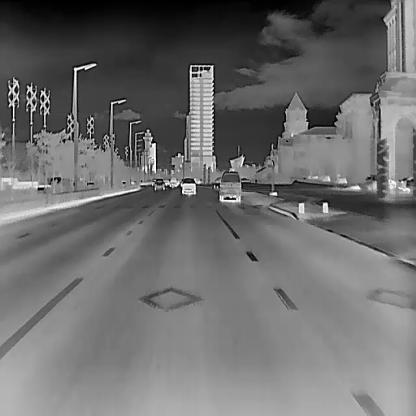car: (218, 171, 240, 202), (181, 177, 196, 195), (154, 177, 164, 190), (169, 176, 178, 187)
